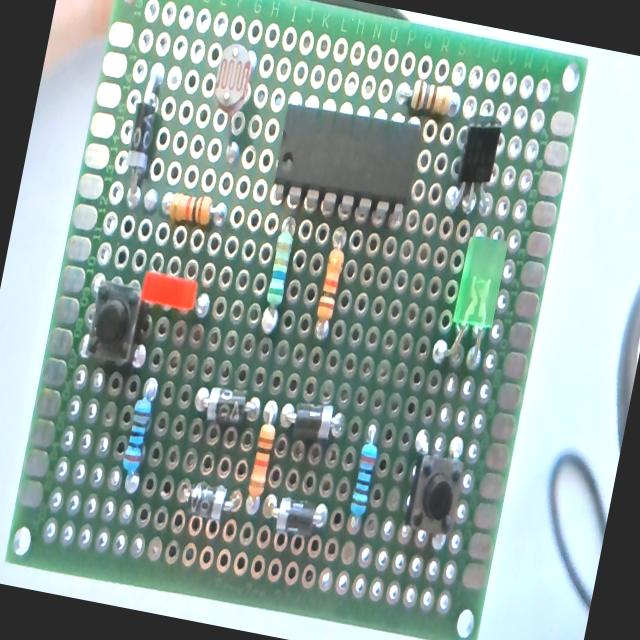IC: (268, 101, 424, 220)
cds: (201, 41, 260, 160)
diode: (118, 70, 166, 209), (192, 383, 262, 431), (263, 493, 330, 541), (278, 398, 344, 444), (183, 479, 243, 525)
led: (434, 229, 508, 373), (138, 268, 200, 314)
resistor: (260, 221, 298, 330), (312, 231, 350, 339), (120, 381, 158, 480), (246, 400, 282, 502), (348, 424, 383, 522), (395, 77, 460, 120), (166, 190, 218, 230)
switch: (398, 436, 471, 542), (84, 280, 148, 368)
transistor: (448, 114, 505, 220)
